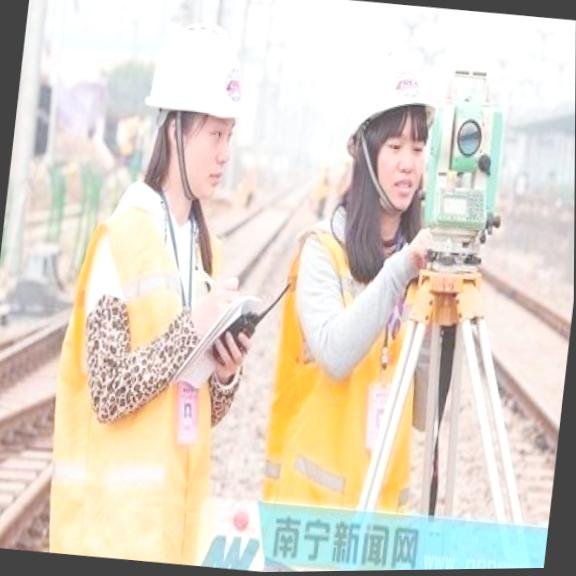safety_vest: (31, 174, 242, 568), (251, 208, 446, 564)
